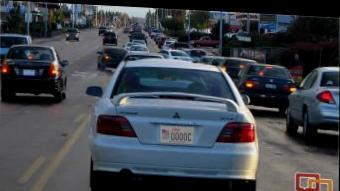License_Plate: (157, 121, 195, 146)
